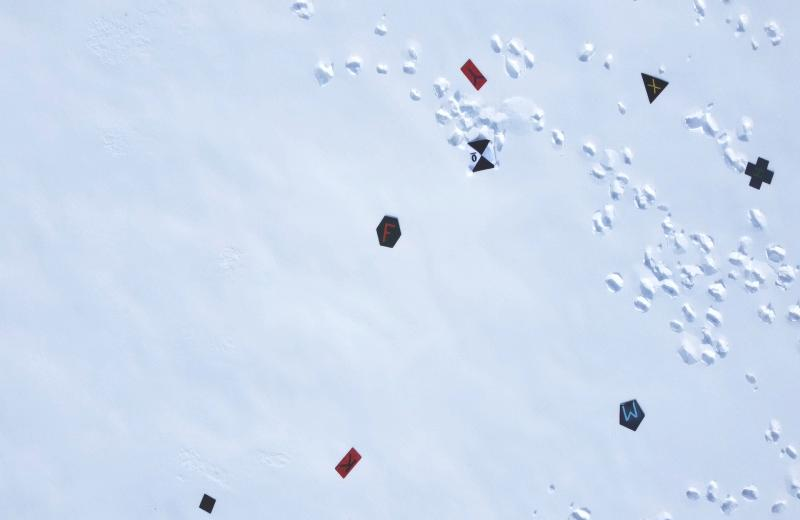Cross: (742, 152, 775, 193)
Hexagon: (374, 211, 403, 253)
Pentagon: (617, 396, 647, 434)
Rectangle: (332, 442, 365, 480), (458, 55, 490, 94)
Square: (198, 488, 218, 516)
Triangle: (638, 66, 670, 104)
